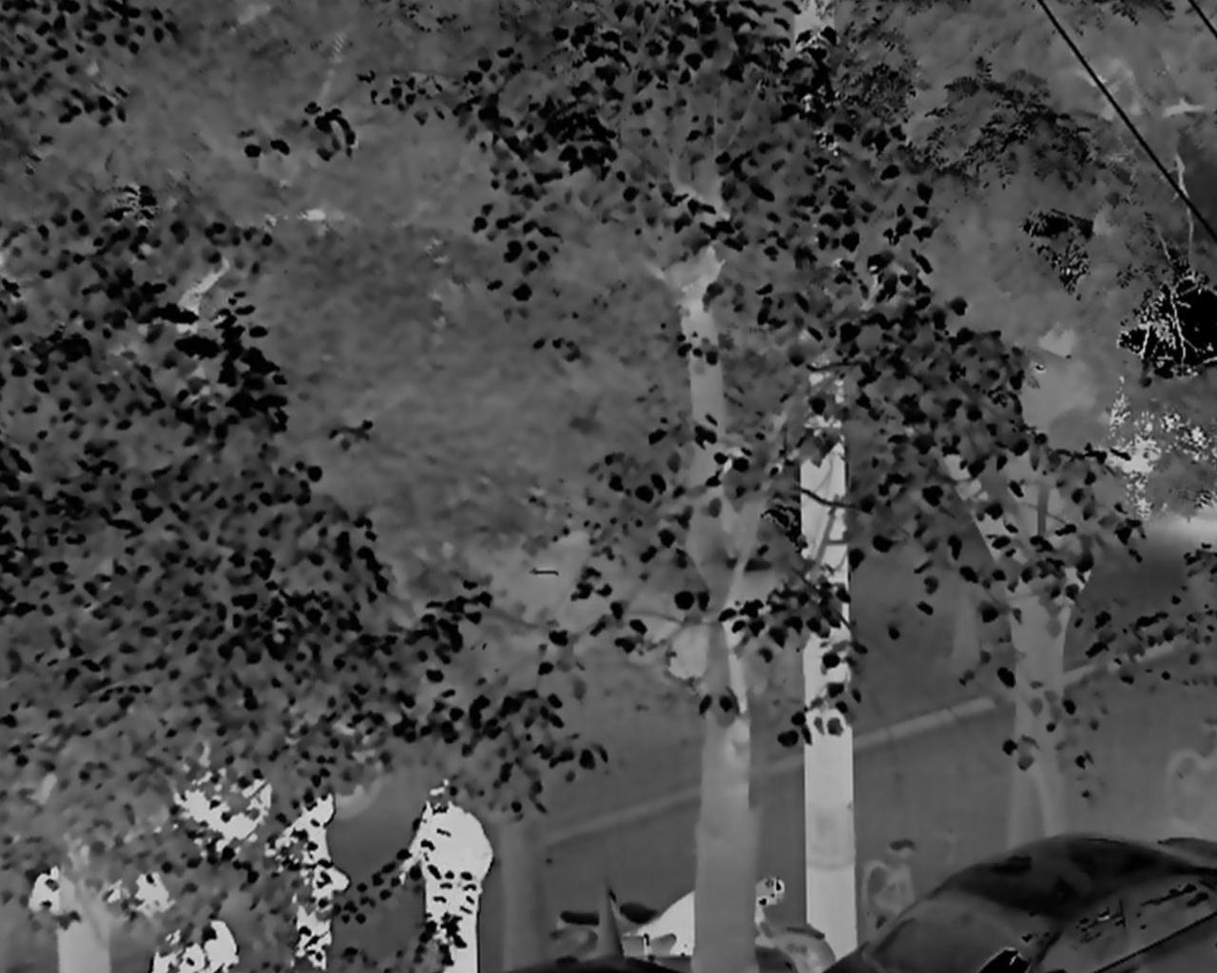person: (400, 775, 498, 973), (269, 791, 348, 973)
